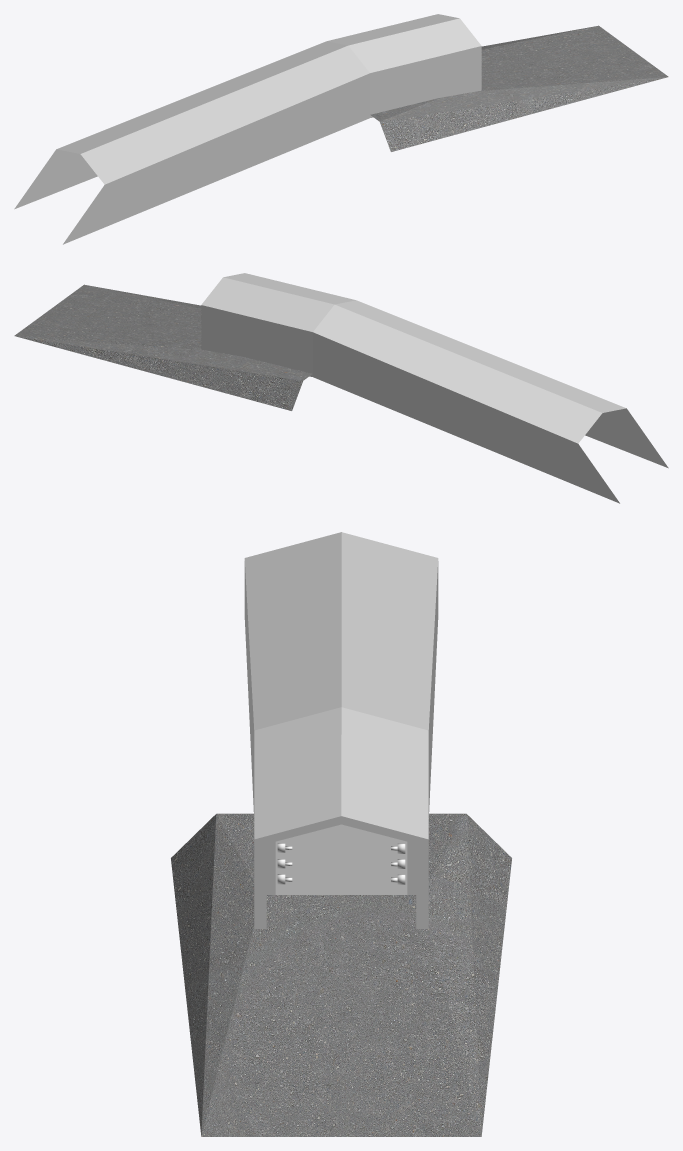
The model's file is Mountain Vehicle Entrance.glb.
3 views of the same model, one above another, from view 1: azimuth 30°, elevation 25°; view 2: azimuth 150°, elevation 25°; view 3: azimuth 270°, elevation 25° (orthographic). The views are drawn at different scales.
Visible parts, largest first — view 1: MountainVehicleEntrance; view 2: MountainVehicleEntrance; view 3: MountainVehicleEntrance.
Boxes of the visible parts, bbox=[...] form: MountainVehicleEntrance: bbox=[14, 14, 668, 244]; MountainVehicleEntrance: bbox=[14, 273, 668, 503]; MountainVehicleEntrance: bbox=[171, 532, 511, 1136].
Bounding box in the file's own units: 105 × 17.93 × 26.16.
Materials: 3 (1 with a texture image).
